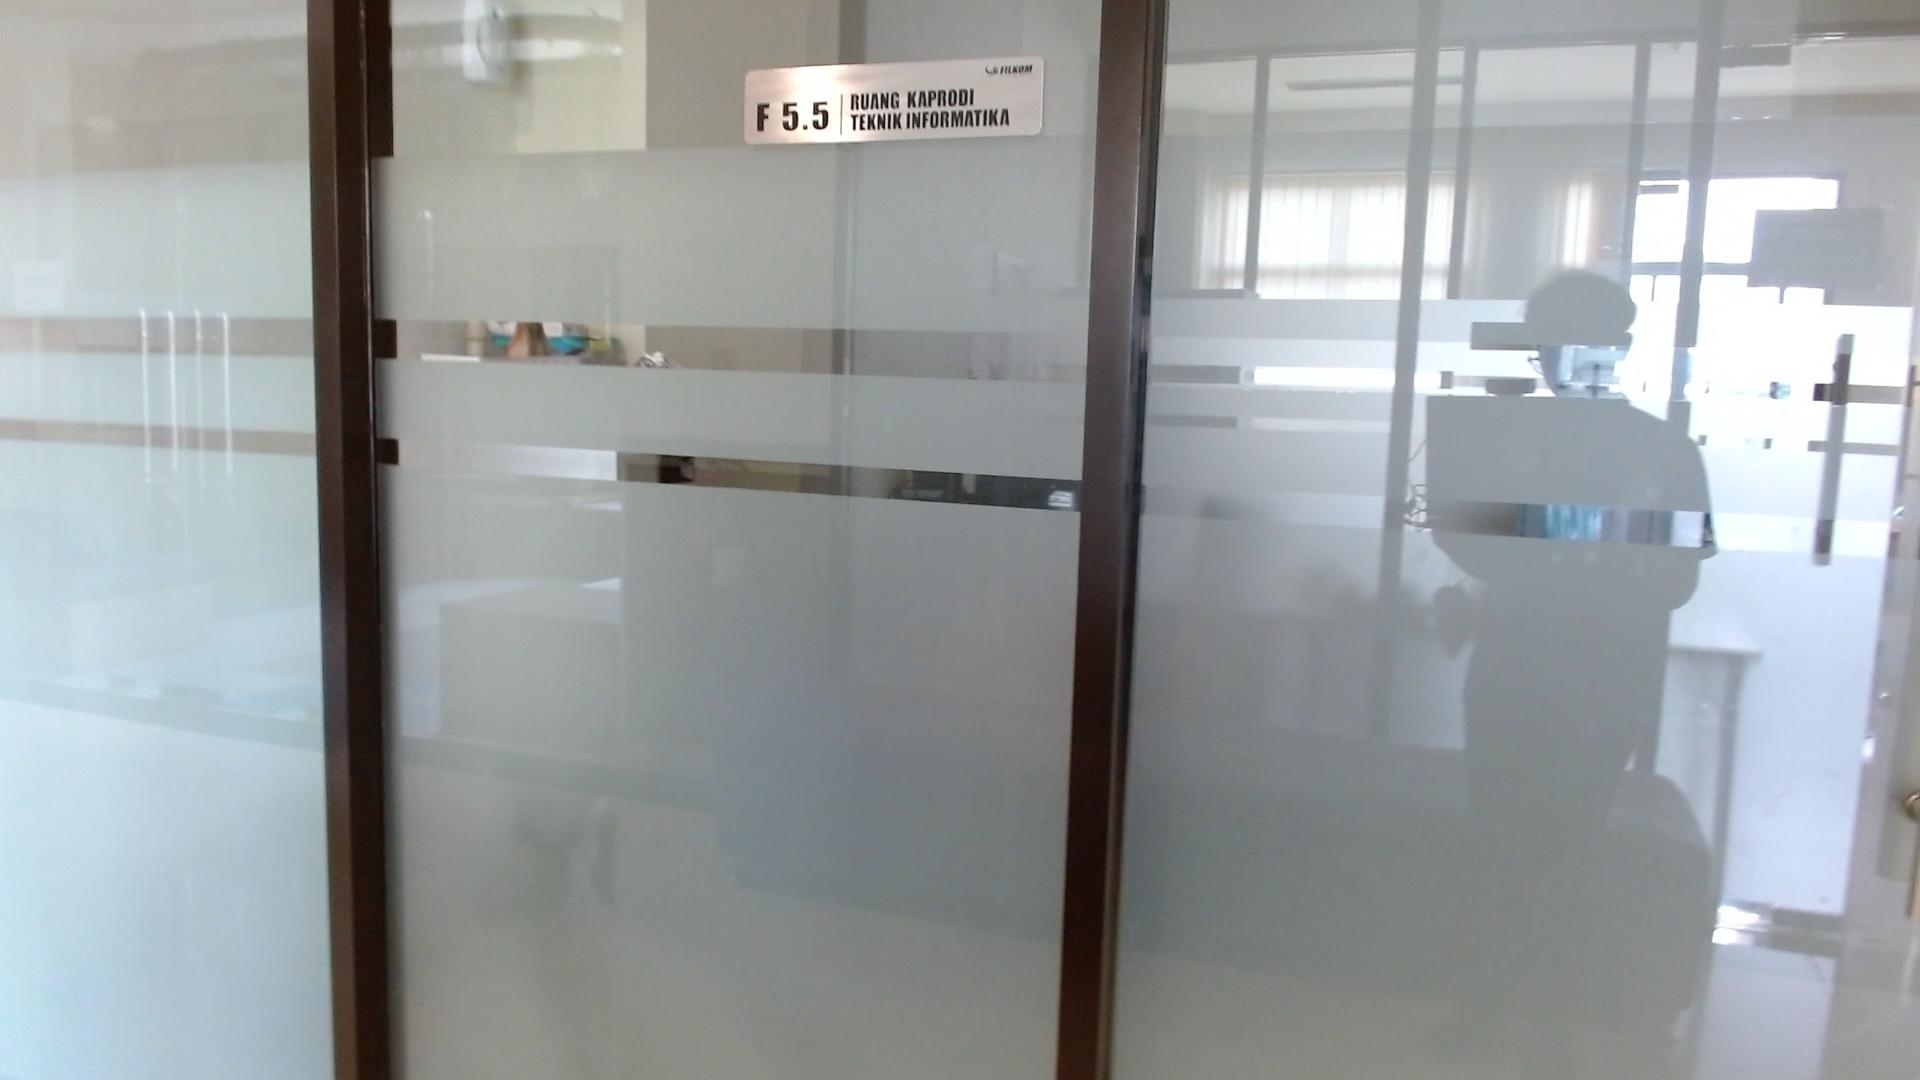plate: (742, 54, 1044, 148)
